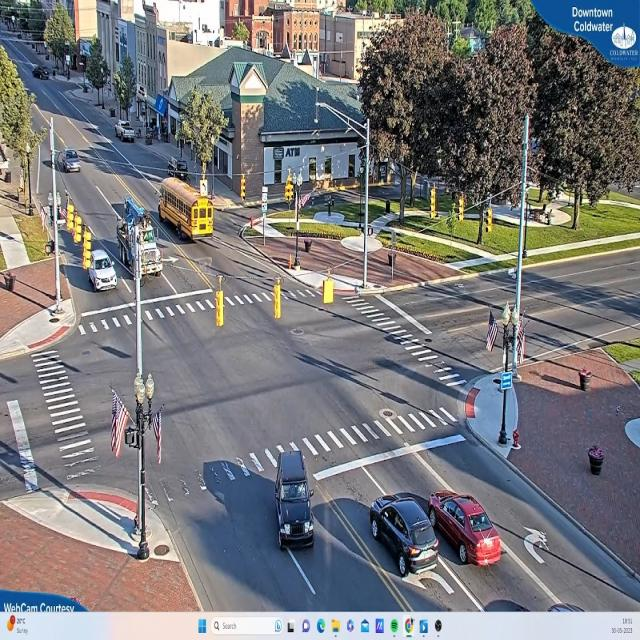bus: (158, 177, 215, 250)
car: (369, 492, 442, 578), (426, 491, 506, 568), (274, 450, 313, 547), (90, 249, 116, 297), (118, 120, 138, 143), (60, 150, 80, 172)
truck: (116, 195, 162, 287)
